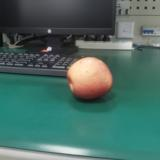apple: (66, 57, 113, 100)
